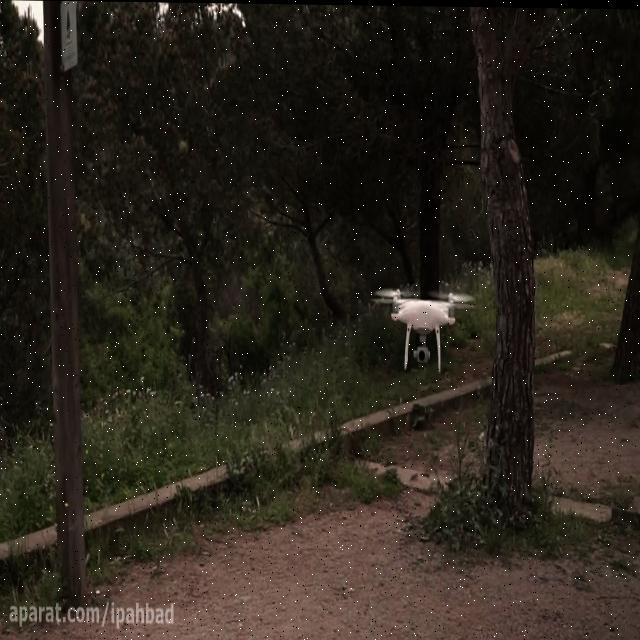drone: (369, 281, 475, 373)
